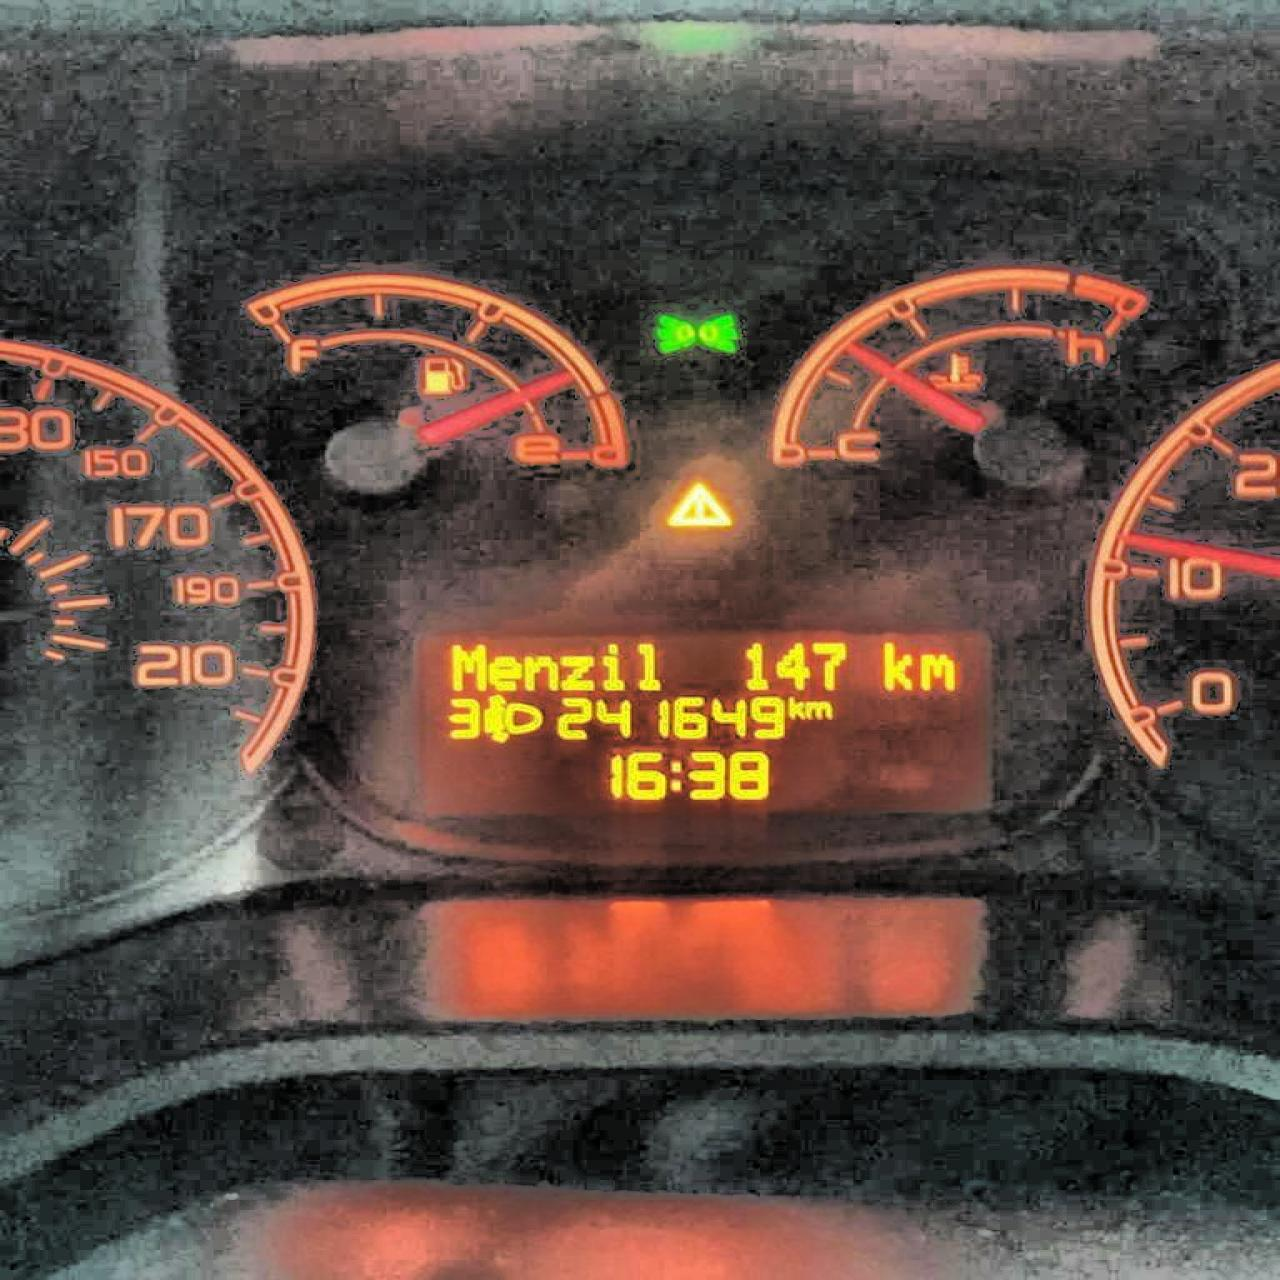1: (742, 639, 768, 691), (608, 751, 622, 801), (655, 696, 668, 738)
2: (556, 695, 592, 740)
3: (687, 748, 725, 800), (445, 694, 480, 738)
4: (773, 639, 812, 691), (593, 696, 632, 738), (708, 695, 747, 737)
6: (627, 749, 665, 800), (670, 695, 707, 739)
8: (725, 748, 770, 800)
9: (748, 694, 785, 740)
X: (448, 640, 485, 691), (630, 636, 662, 692), (880, 639, 913, 691), (917, 648, 955, 692), (520, 654, 558, 692), (560, 652, 595, 692), (598, 640, 624, 691), (487, 652, 520, 692), (804, 698, 834, 722), (668, 756, 682, 794), (787, 694, 803, 721)
odometer: (407, 622, 998, 818)
